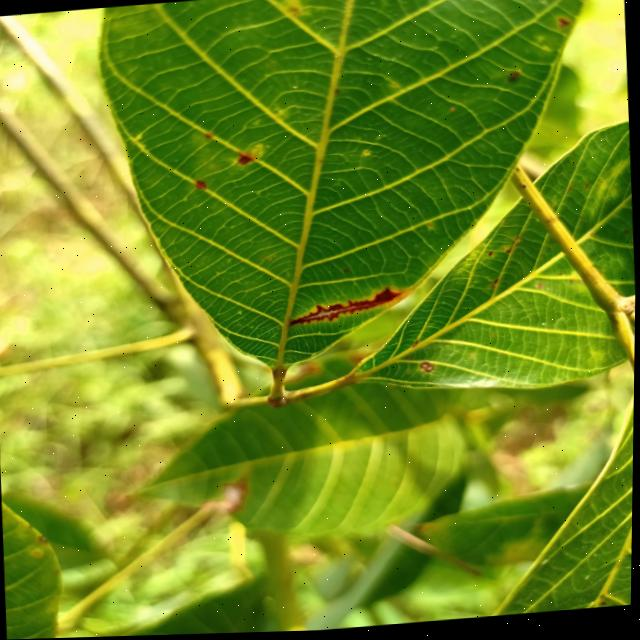Colletotrichum: (421, 363, 431, 373), (428, 368, 436, 374)
Corynespora: (289, 289, 404, 328)
